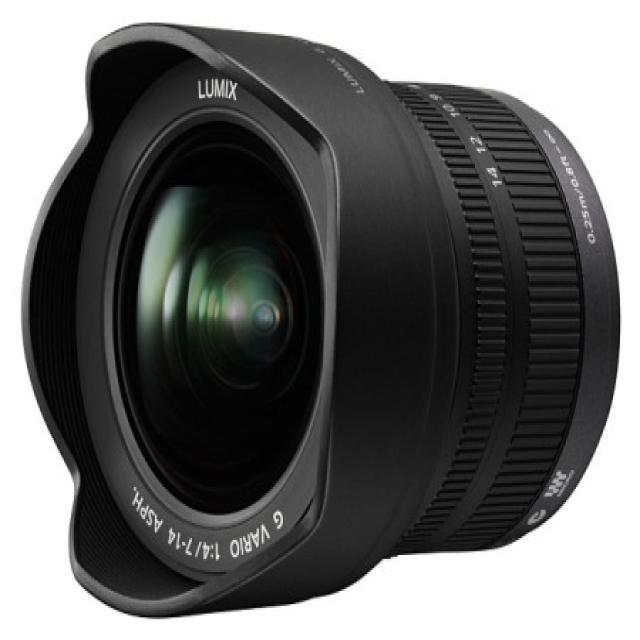hidden camera: (38, 61, 339, 596)
